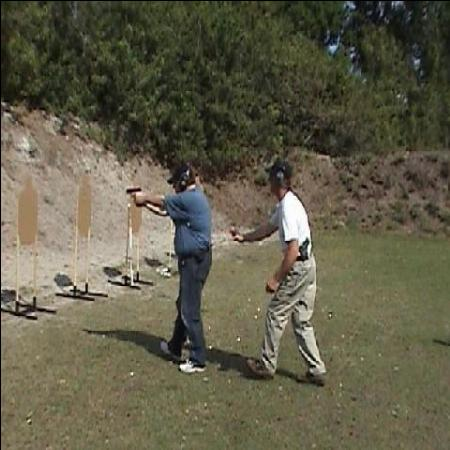Pistol: (125, 185, 144, 204)
